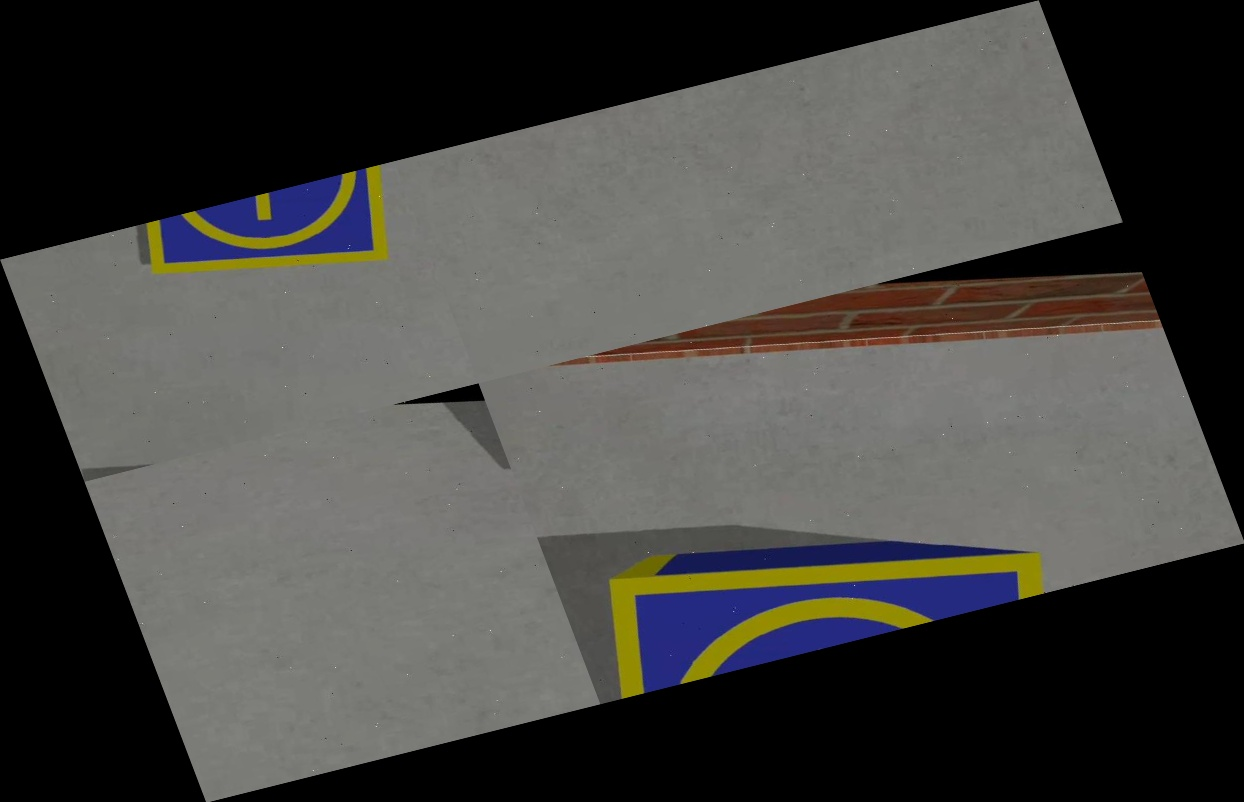small_base: (554, 468, 1053, 703), (125, 161, 429, 320)
